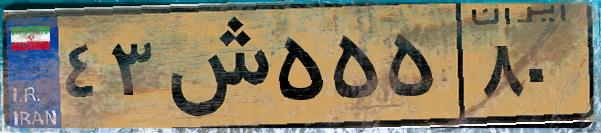0: (525, 38, 570, 115)
3: (110, 28, 158, 98)
4: (57, 26, 110, 100)
5: (270, 28, 330, 110), (385, 28, 445, 110), (330, 28, 385, 110)
8: (475, 38, 525, 113)
ش: (158, 12, 270, 120)
